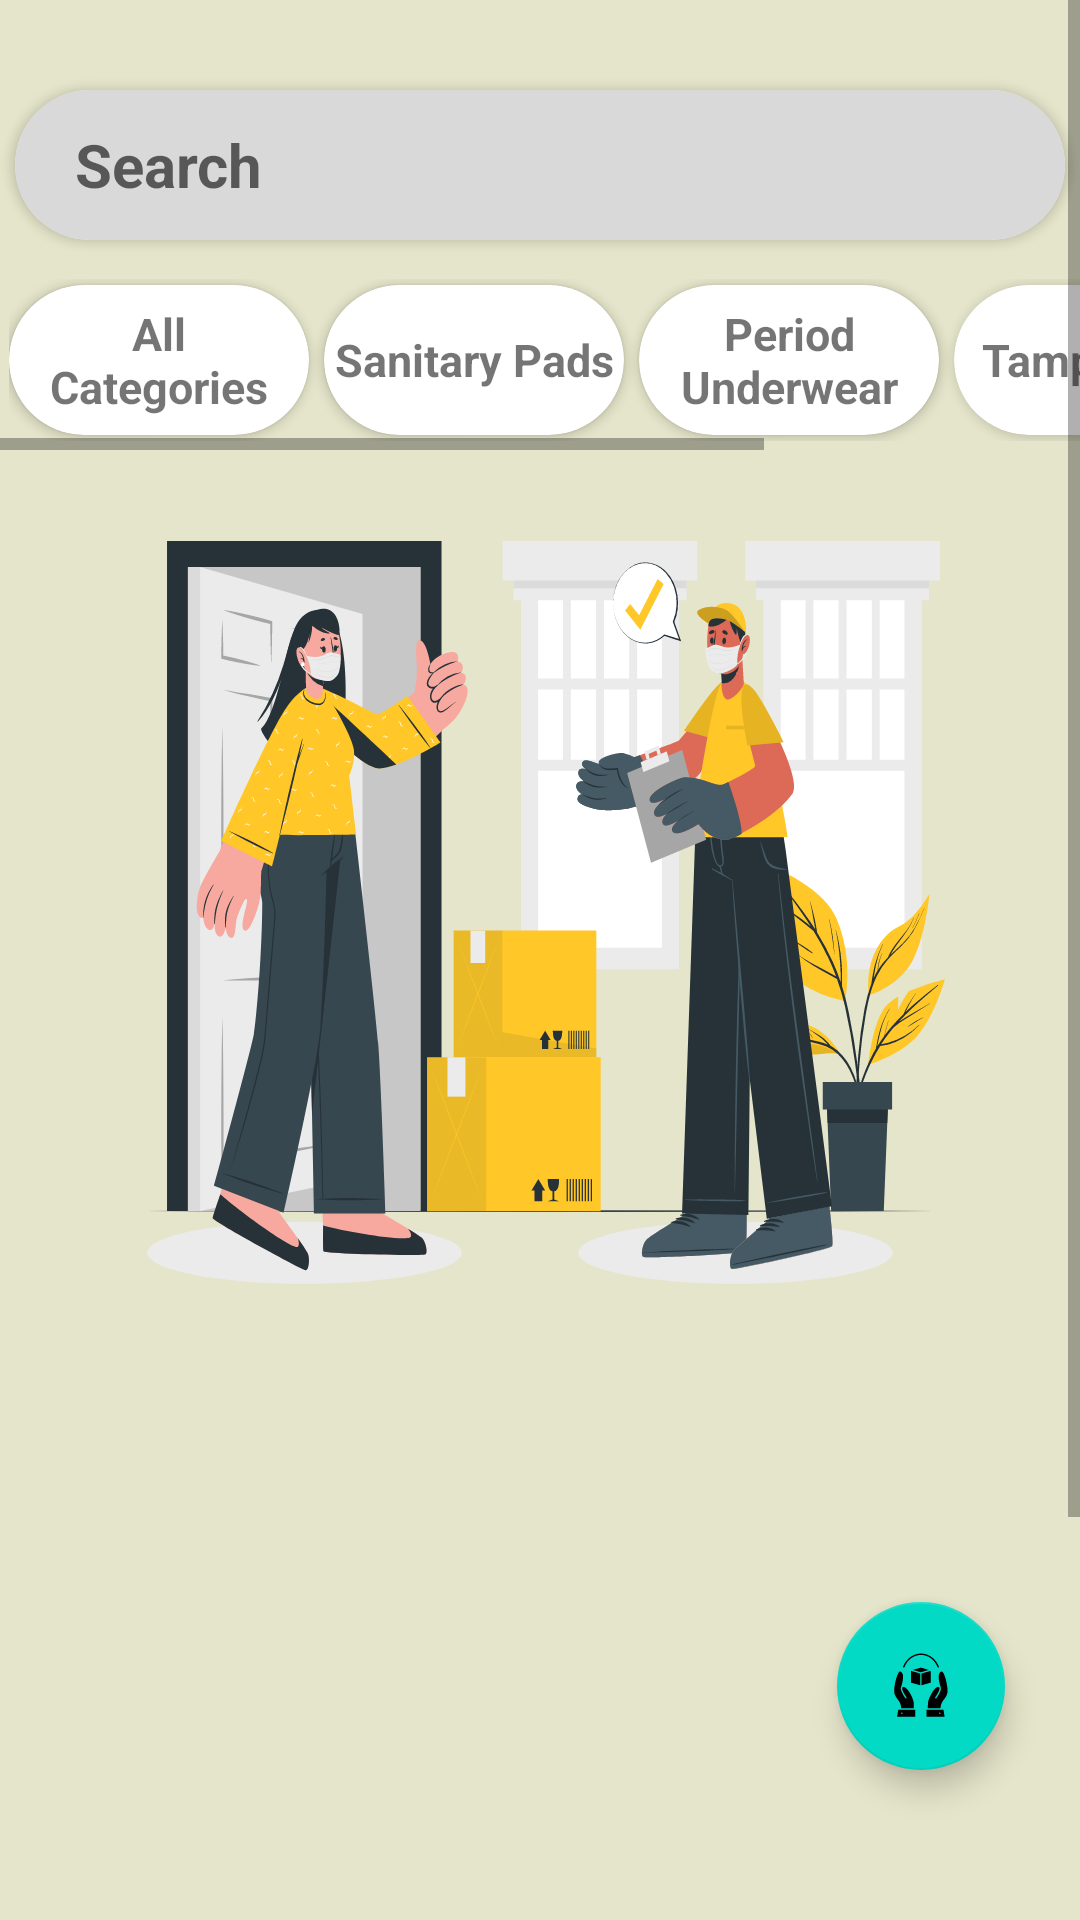

Point at icon controls on the screen. Image size 1080px x 1920px, points as (x,y).
care: (921,1686)
